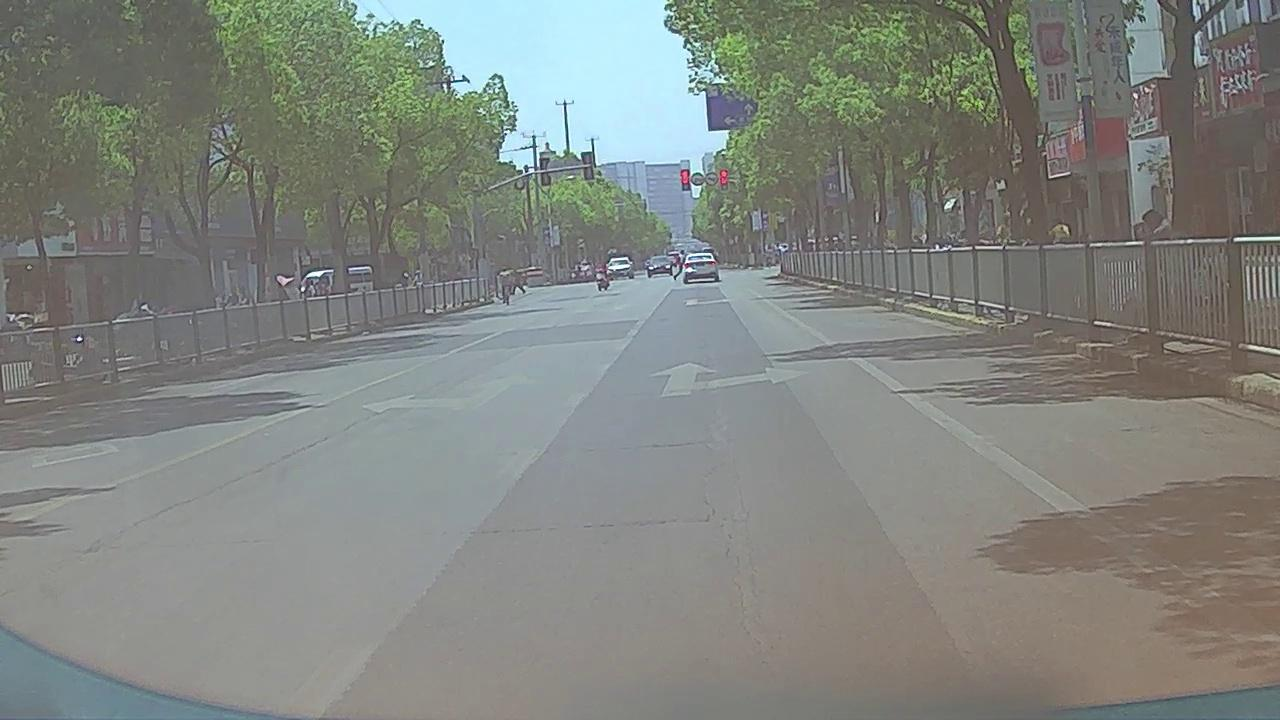traffic_light: (718, 168, 730, 192), (680, 169, 691, 192)
